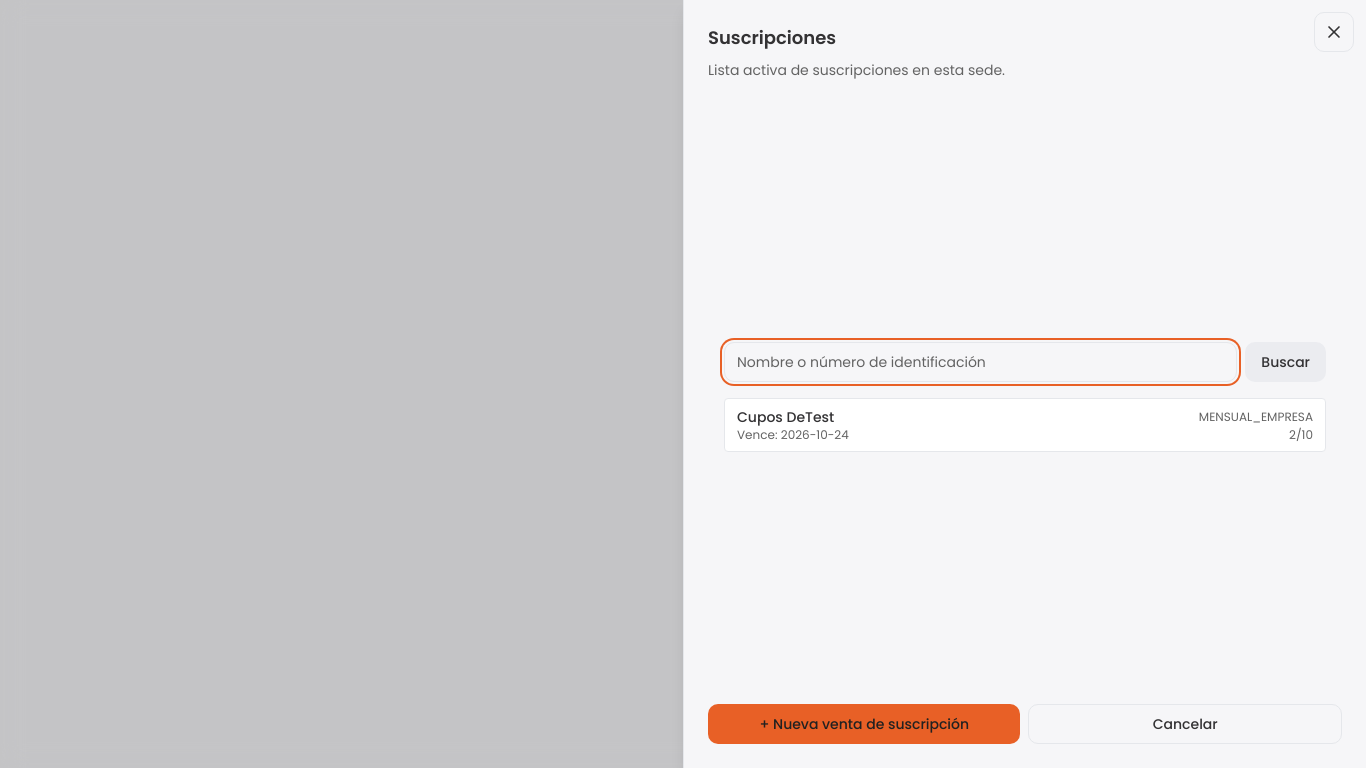
<SuscripcionesSheet /> — HU-F9.1 + HU-F9.2 realineada › S7: agregar form submits the typed placa and updates the detalle
The image size is (1366, 768).
Click the button with test id "suscripciones-sheet-item-sub-1" at (760, 417), box [724,398,1326,452]
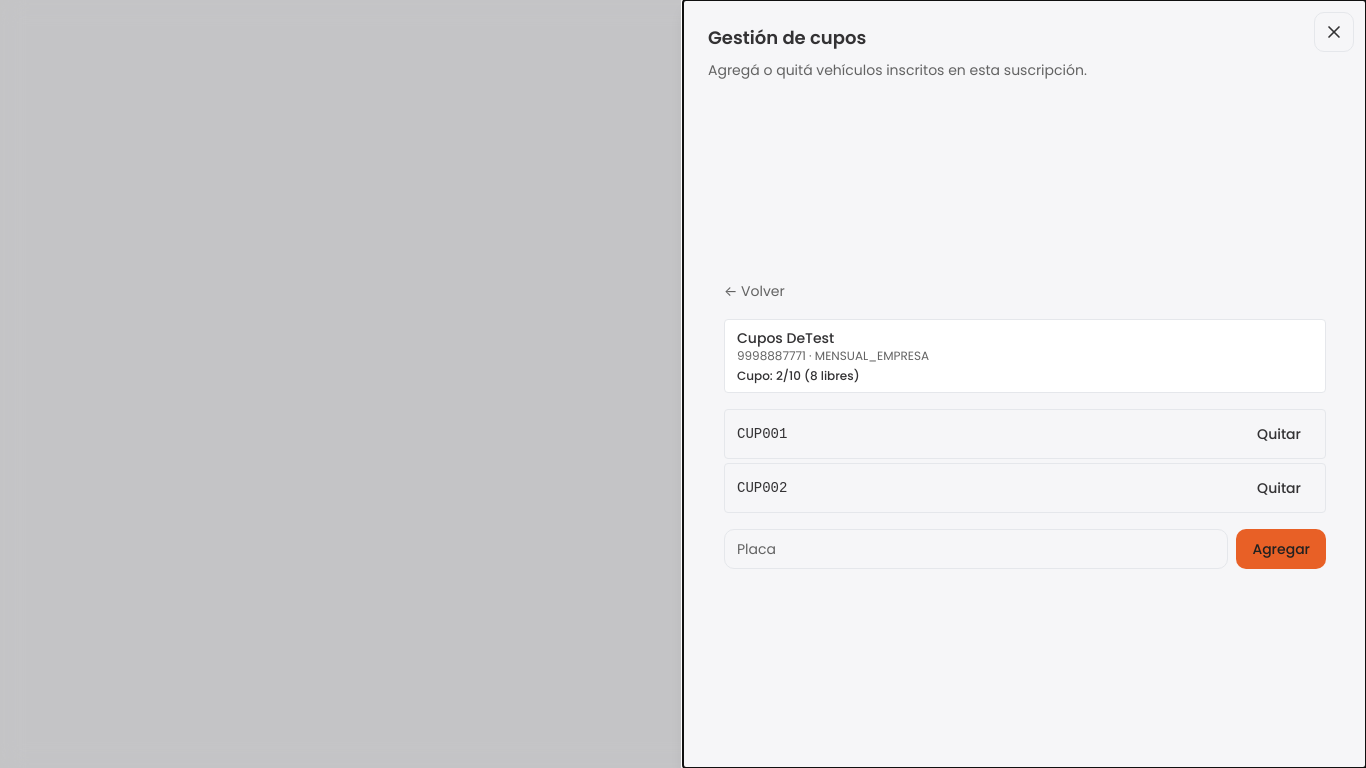
Expected: the element with test id "suscripciones-cupos-detalle" is shown, [724,279,1326,569]
Type "CUP003" into the field with test id "suscripciones-cupos-agregar-input" at (976, 549), box [724,529,1228,569]
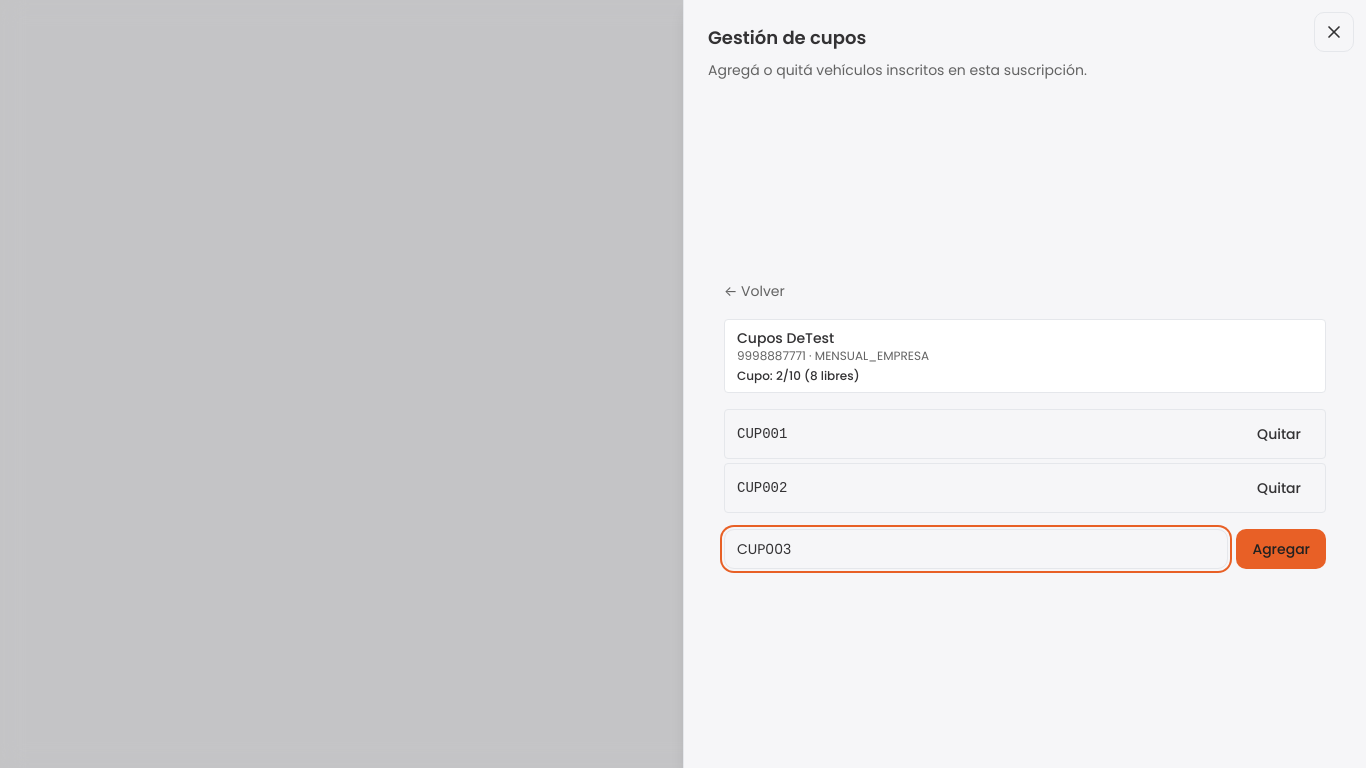
Click the button with test id "suscripciones-cupos-agregar-submit" at (1281, 549), box [1236,529,1326,569]
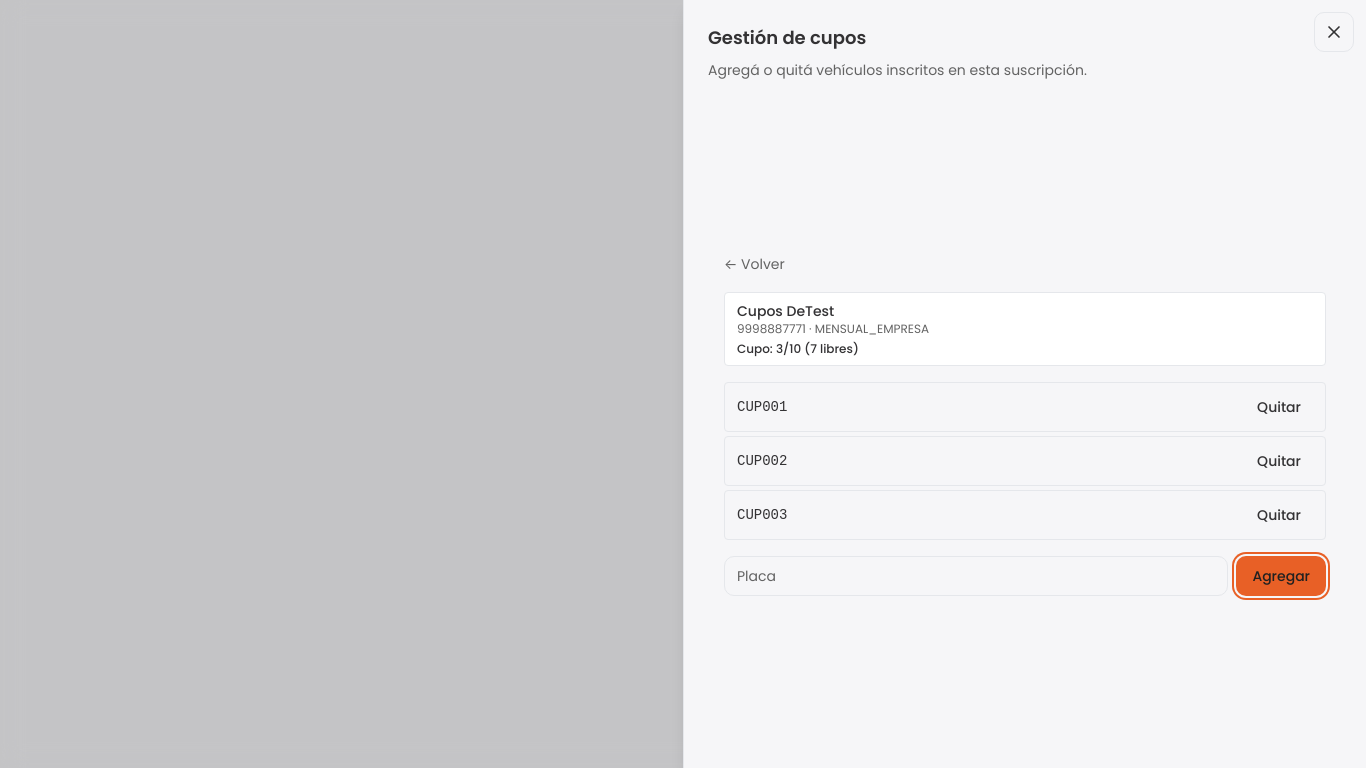
Expected: the list item with test id "suscripciones-cupos-vehiculo-sv-3" is shown, [724,490,1326,540]
